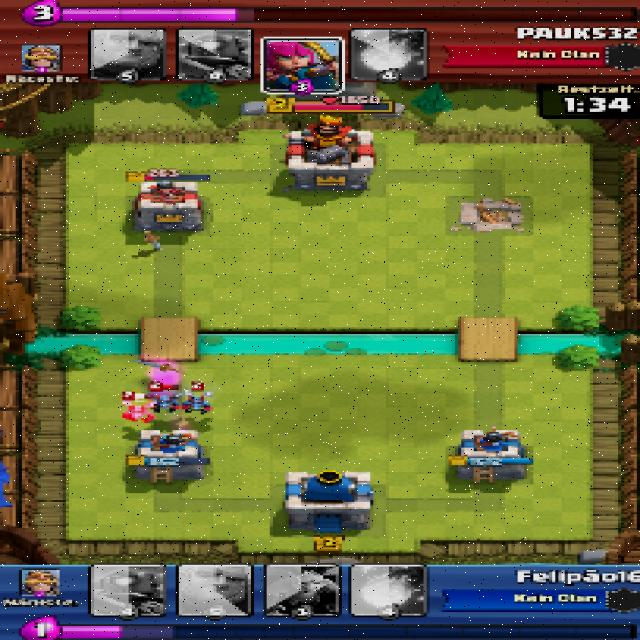Enemy-Minion: (116, 403, 157, 422), (182, 393, 214, 414), (152, 393, 182, 411)
